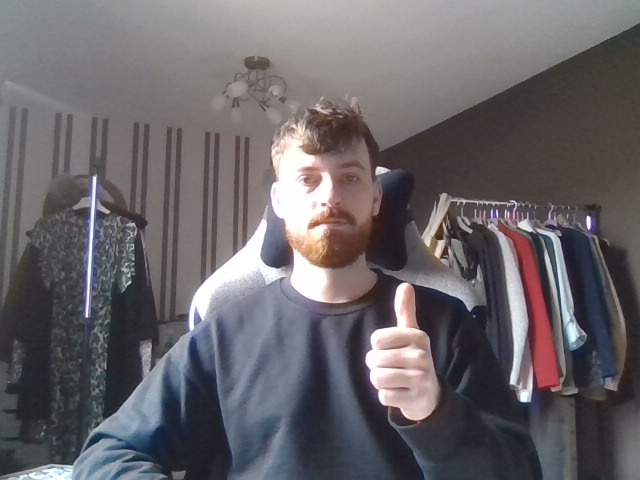Thumbs Up: (360, 277, 448, 432)
